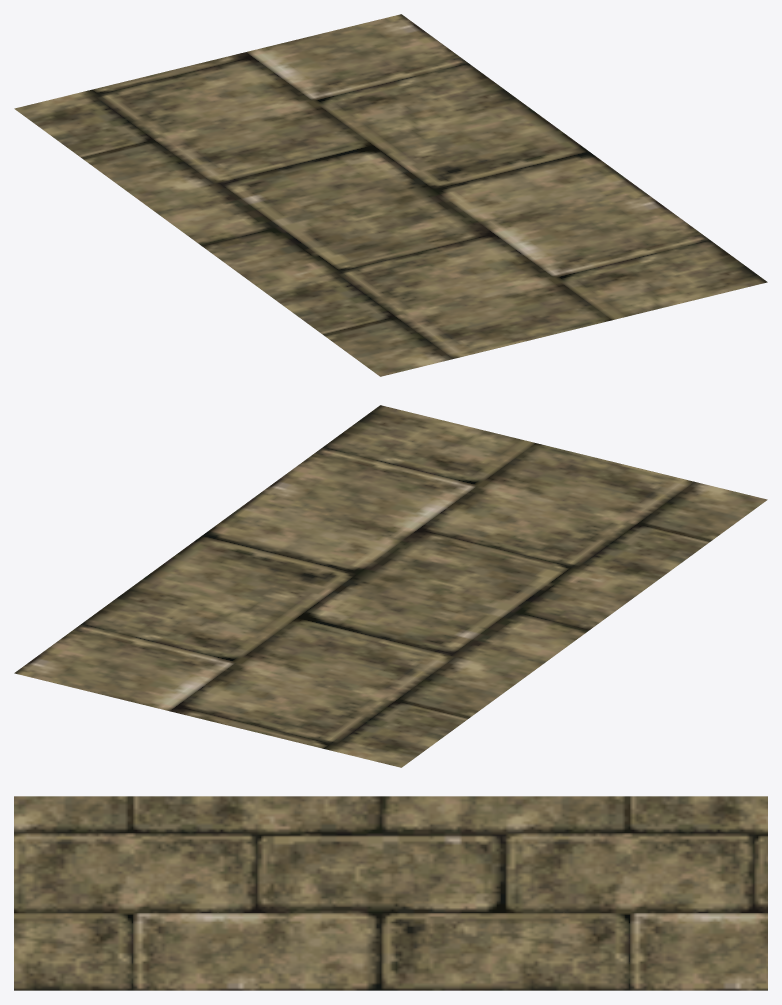
File: OVERHILL_A_01_LINE193.fbx
3 views of the same model, one above another, from view 1: azimuth 30°, elevation 25°; view 2: azimuth 150°, elevation 25°; view 3: azimuth 270°, elevation 25° (orthographic). The views are drawn at different scales.
Visible parts, largest first — view 1: OVERHILL_A_01_LINE193; view 2: OVERHILL_A_01_LINE193; view 3: OVERHILL_A_01_LINE193.
Boxes of the visible parts, x1,y1,x2,y2 form: OVERHILL_A_01_LINE193: [14, 14, 767, 376]; OVERHILL_A_01_LINE193: [14, 405, 767, 767]; OVERHILL_A_01_LINE193: [14, 796, 767, 990].
Size of the model in its own units: 22204 by 0.0176 by 36360.
Materials: 1 (1 with a texture image).
